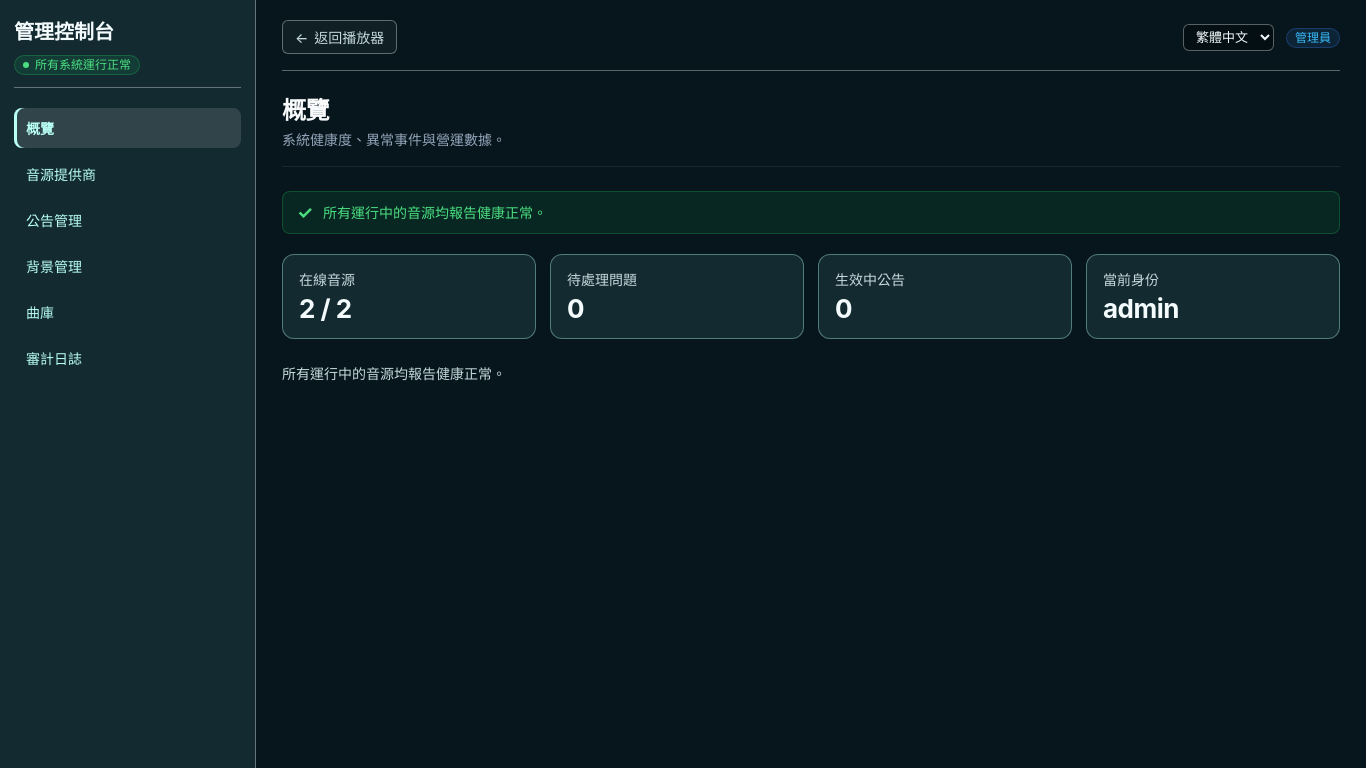
Test: AdminShell › warns that provider state may be stale when the save and refresh both fail
The image size is (1366, 768).
Click the link "音源提供商" at (61,175), box [26, 166, 96, 183]
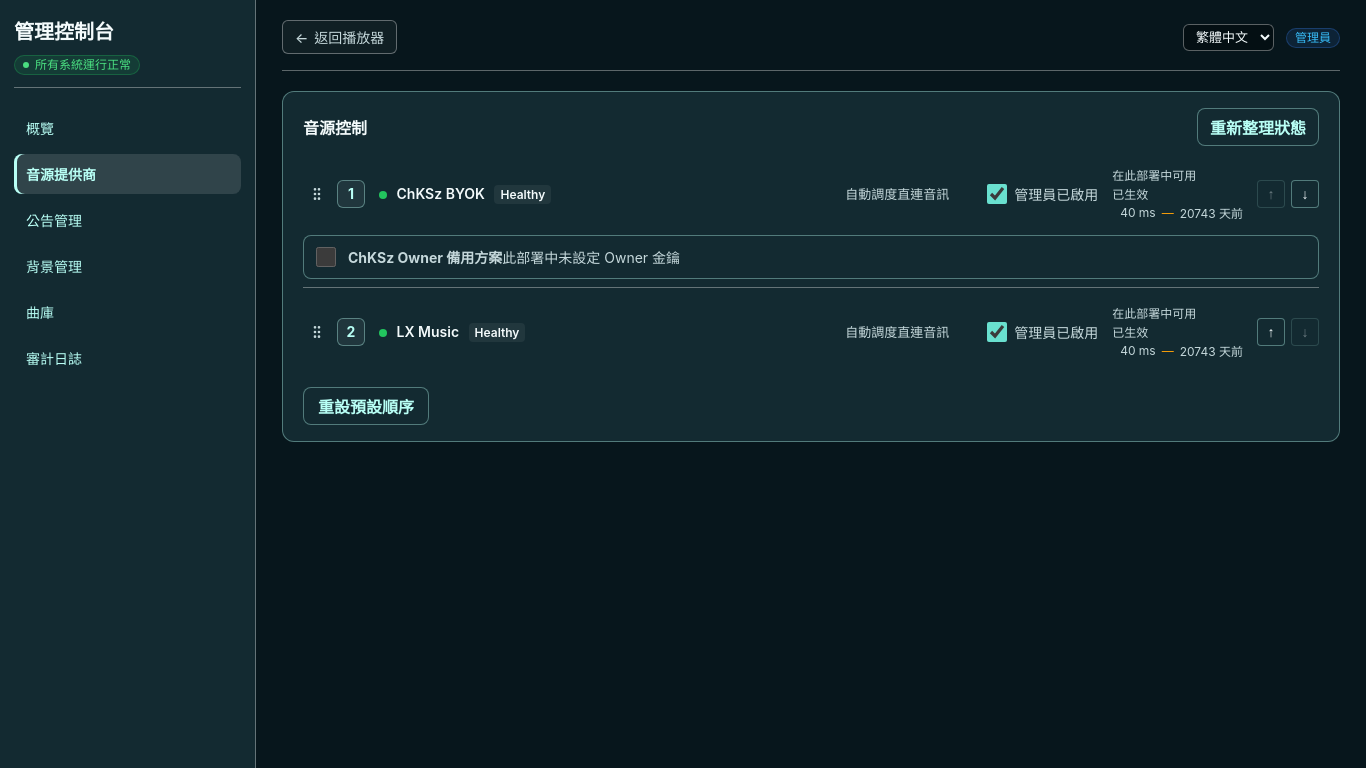
Click the checkbox labelled "管理員已啟用" in the row of "LX Music" at (997,332), box [987, 322, 1007, 342]
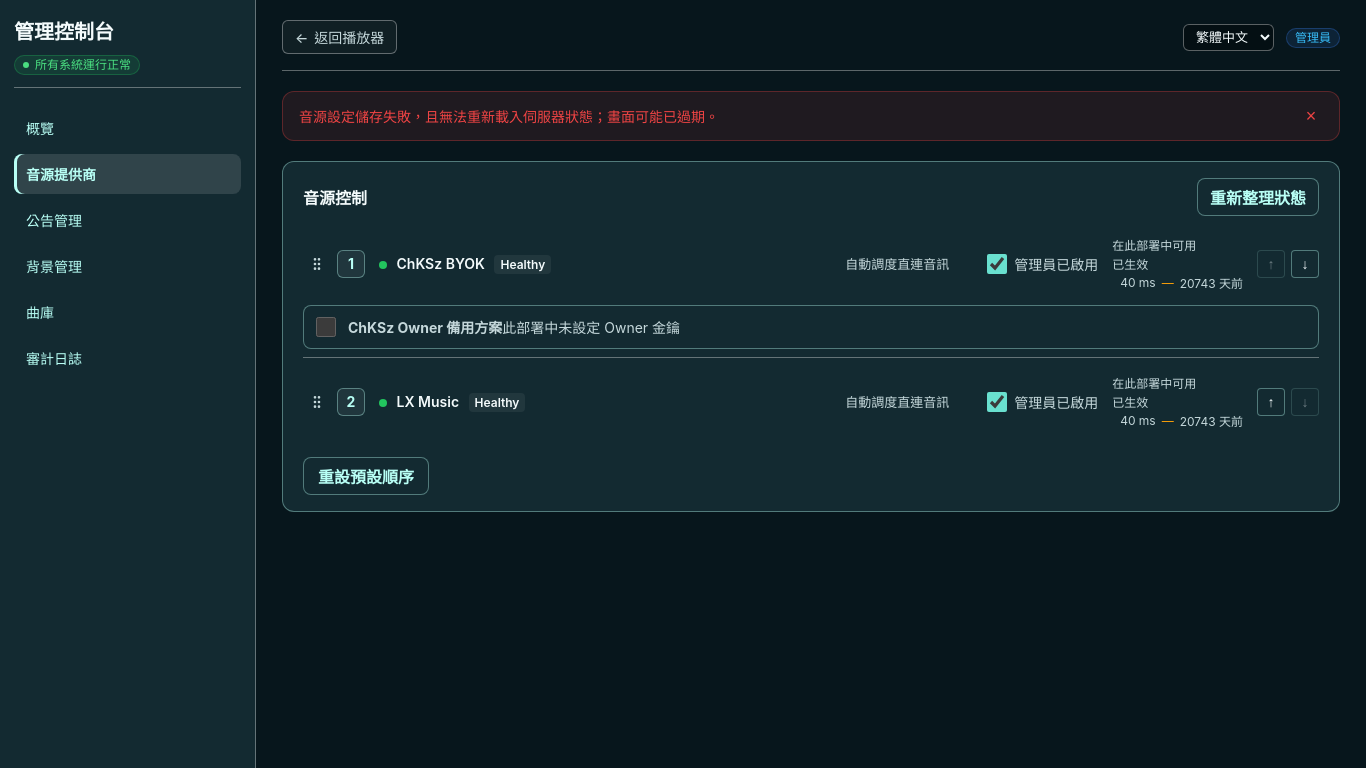
Now the checkbox labelled "管理員已啟用" in the row of "LX Music" is checked, box [987, 392, 1007, 412]
Now the message "音源設定儲存失敗，且無法重新載入伺服器狀態；畫面可能已過期。 ×" is shown, box [282, 91, 1340, 141]
